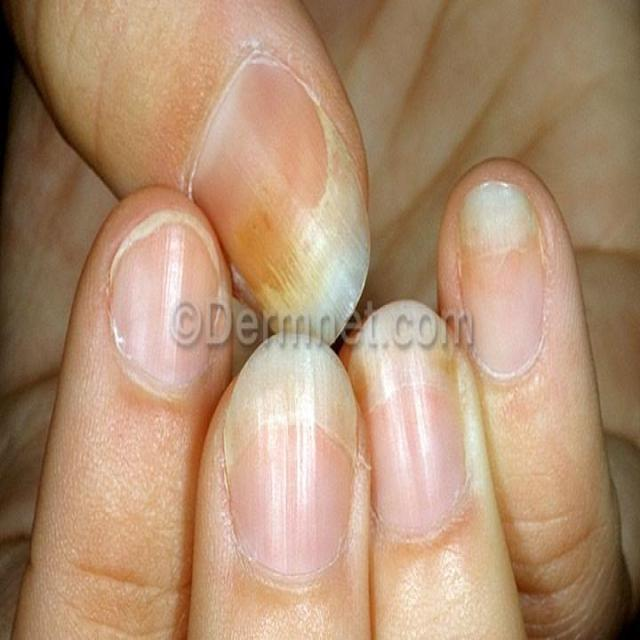Nail: (190, 54, 371, 335), (224, 334, 355, 575), (348, 301, 466, 534), (110, 210, 232, 402), (453, 182, 546, 372)
